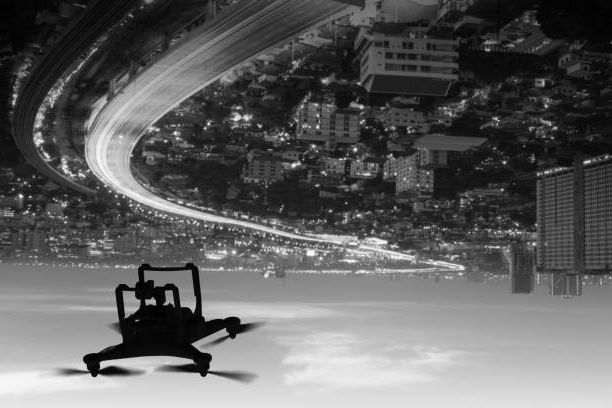Drone: (60, 261, 262, 387)
